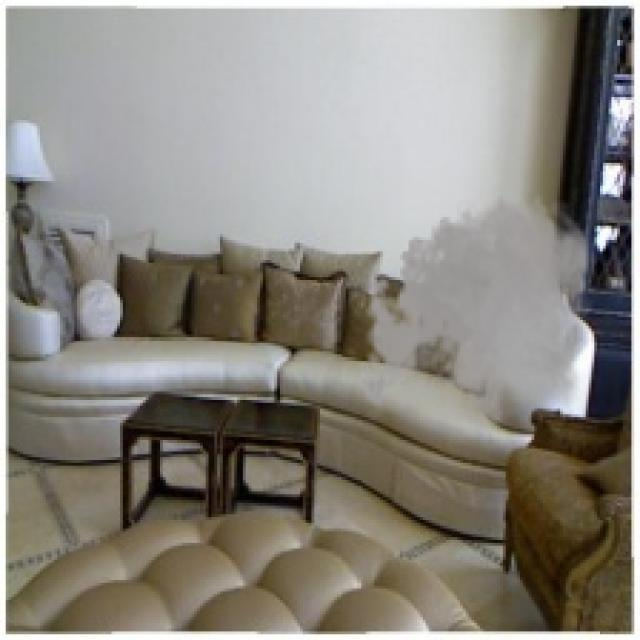Smoke: (351, 180, 600, 452)
